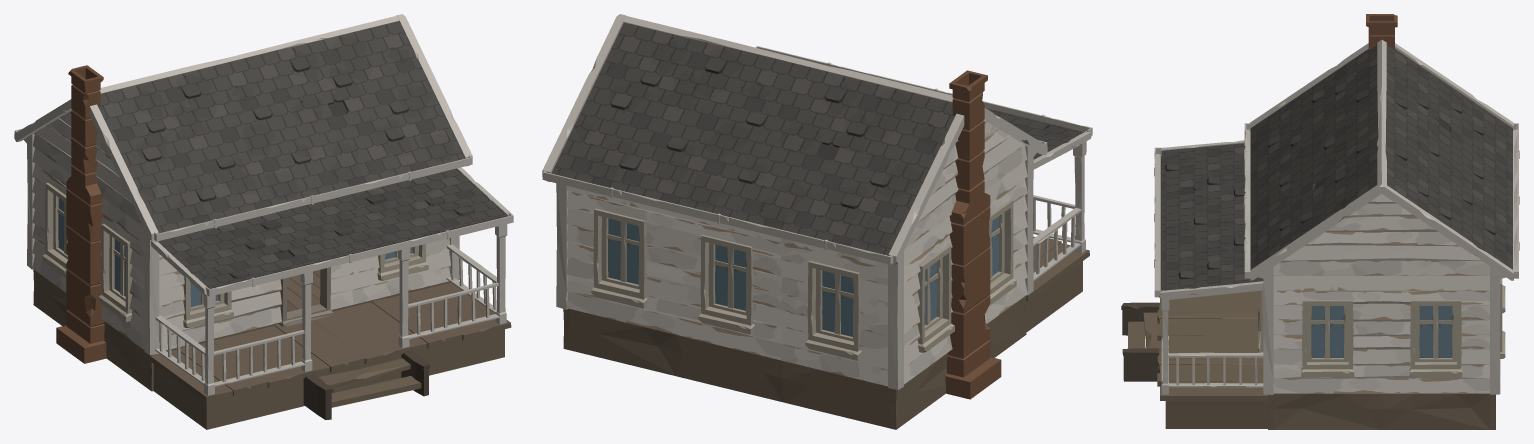
Rendered from house.glb.
3 views of the same model, side by side, from view 1: azimuth 30°, elevation 25°; view 2: azimuth 150°, elevation 25°; view 3: azimuth 270°, elevation 25° (orthographic). The views are drawn at different scales.
Visible parts, largest first — view 1: house; view 2: house; view 3: house.
Boxes of the visible parts, x1,y1,x2,y2 form: house: [14, 14, 513, 429]; house: [542, 14, 1092, 429]; house: [1121, 14, 1519, 429].
Bounding box in the file's own units: 8.58 × 6.79 × 9.21.
2 materials, 2 textured.
